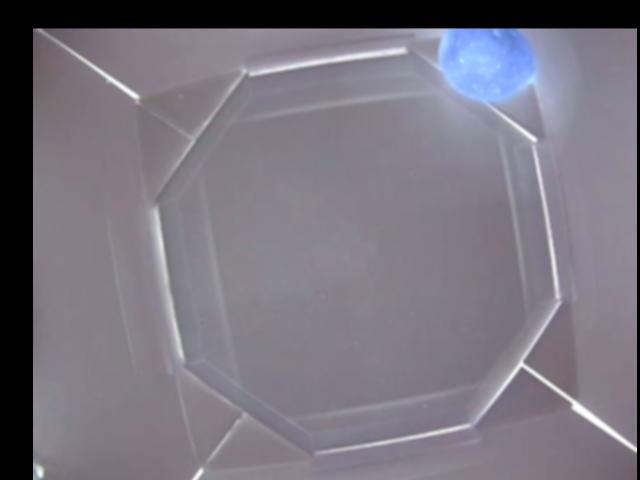Potato: (440, 29, 539, 103)
